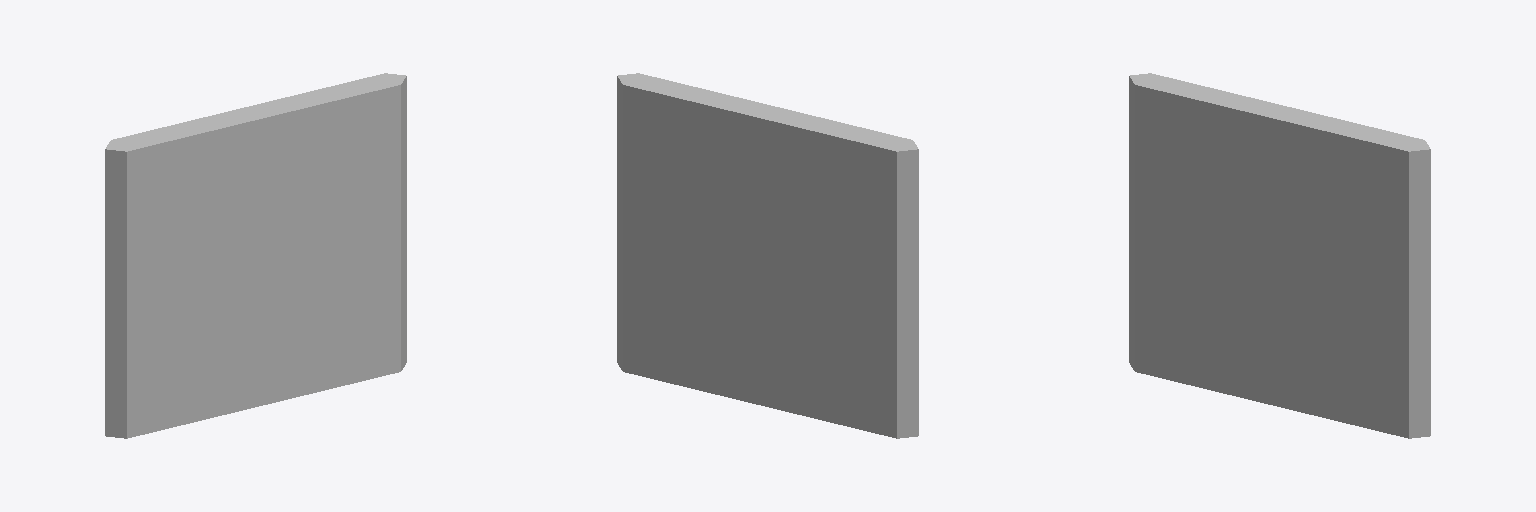
The model's file is Wall_Straight.obj.
The picture shows the model from 3 angles: view 1: azimuth 30°, elevation 25°; view 2: azimuth 150°, elevation 25°; view 3: azimuth 330°, elevation 25°; orthographic projection.
Parts seen in each view (by area): view 1: object1; view 2: object1; view 3: object1.
Boxes of the visible parts, x1,y1,x2,y2 form: object1: [105, 73, 406, 438]; object1: [617, 73, 918, 438]; object1: [1129, 73, 1430, 438].
Size of the model in its own units: 1.1 by 1 by 0.1.